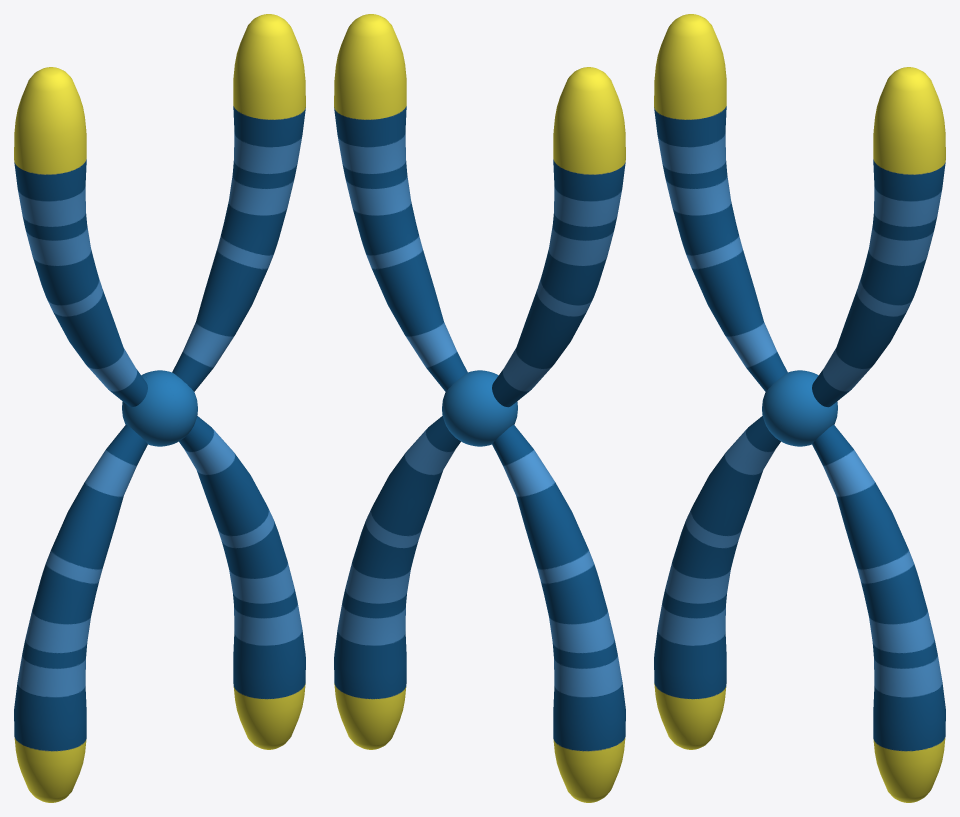
3 renders of one model, left to right at view 1: azimuth 30°, elevation 25°; view 2: azimuth 150°, elevation 25°; view 3: azimuth 330°, elevation 25°, orthographic.
Visible parts, largest first — view 1: CromossomaX; view 2: CromossomaX; view 3: CromossomaX.
Part boxes in pixels (<box>): CromossomaX: <box>14,14,305,802</box>; CromossomaX: <box>334,14,625,802</box>; CromossomaX: <box>654,14,945,802</box>.
Size of the model in its own units: 76.94 by 190 by 18.02.
1 material, 1 textured.
